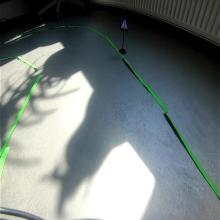crosswalk: (119, 17, 129, 31)
